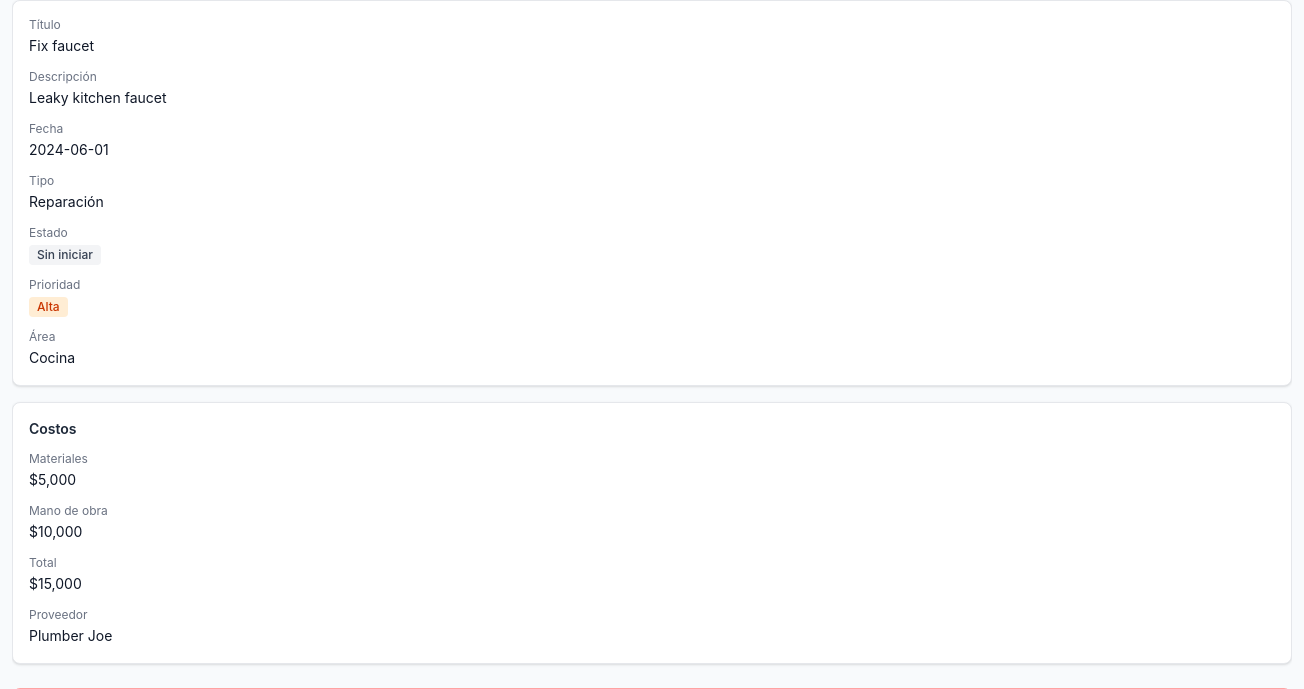
Scenario: DetalleEventoPage › should cancel type edit when cancel button clicked
Check: the text "Reparación" is shown, box [29,193,104,210]
Click the button "Reparación": (66, 202) [29,189,1275,213]
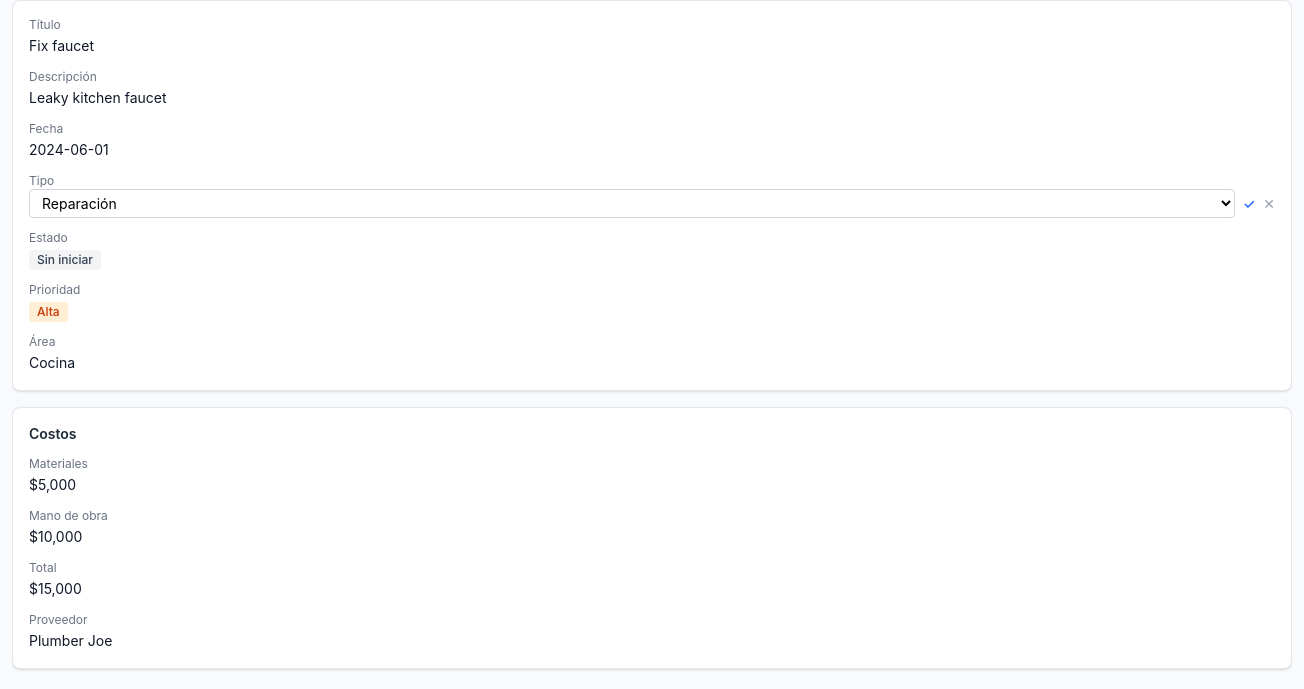
Check: the button "✕" is shown
Click the button "✕": (1269, 204) [1263,194,1275,214]
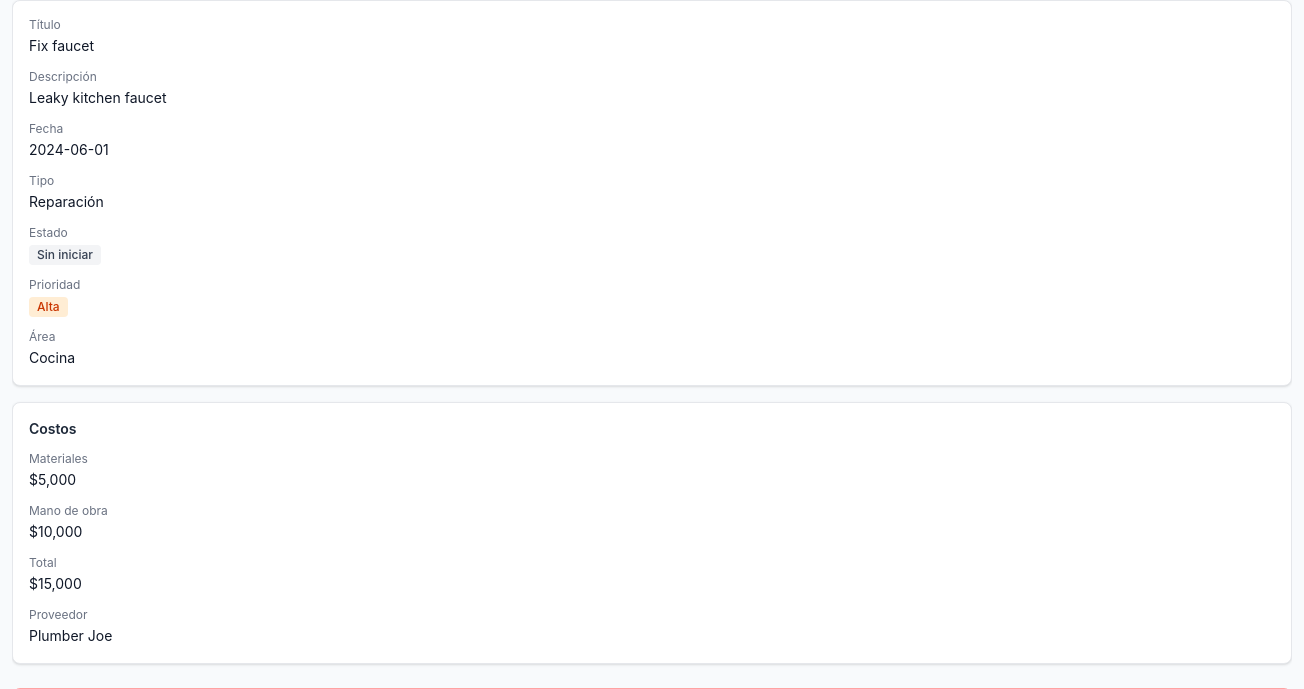
Check: the text "Reparación" is shown, box [29,193,104,210]
